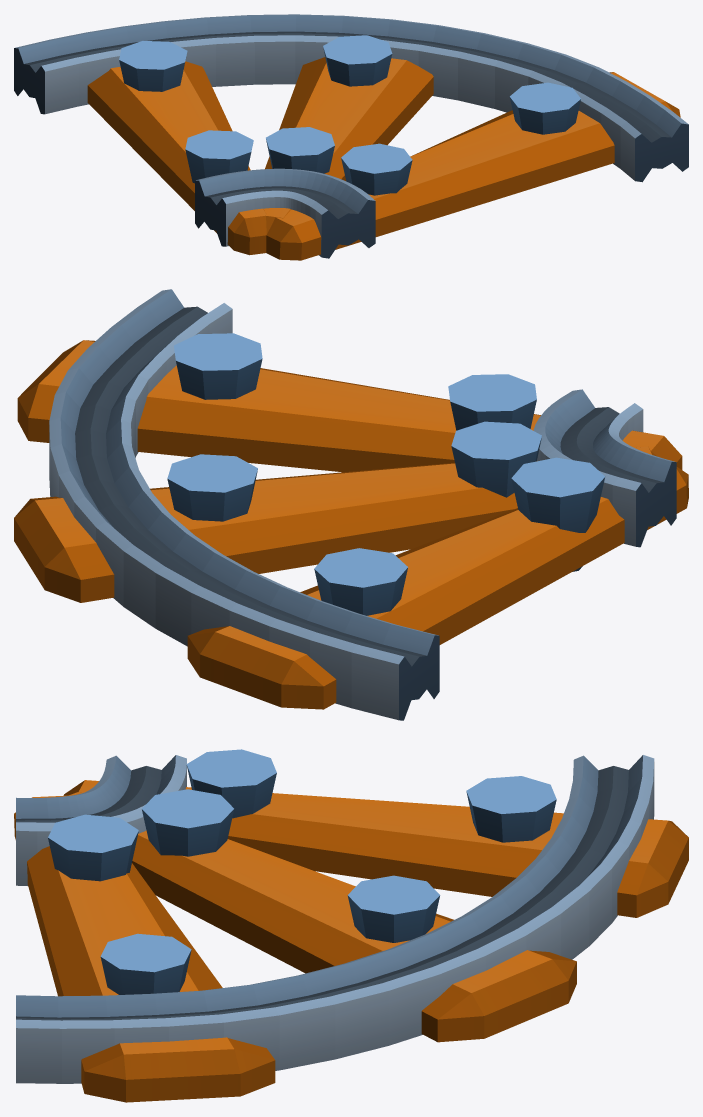
File: 1Br-SolRay.fbx
The picture shows the model from 3 angles, top to bottom: view 1: azimuth 30°, elevation 25°; view 2: azimuth 150°, elevation 25°; view 3: azimuth 270°, elevation 25°; orthographic projection. The views are drawn at different scales.
Parts seen in each view (by area): view 1: 1Br-SolRay; view 2: 1Br-SolRay; view 3: 1Br-SolRay.
Part boxes in pixels (x1,y1,x2,y2): 1Br-SolRay: (14, 14, 688, 260); 1Br-SolRay: (14, 289, 688, 720); 1Br-SolRay: (14, 749, 688, 1102).
Size of the model in its own units: 188 by 25.32 by 184.
